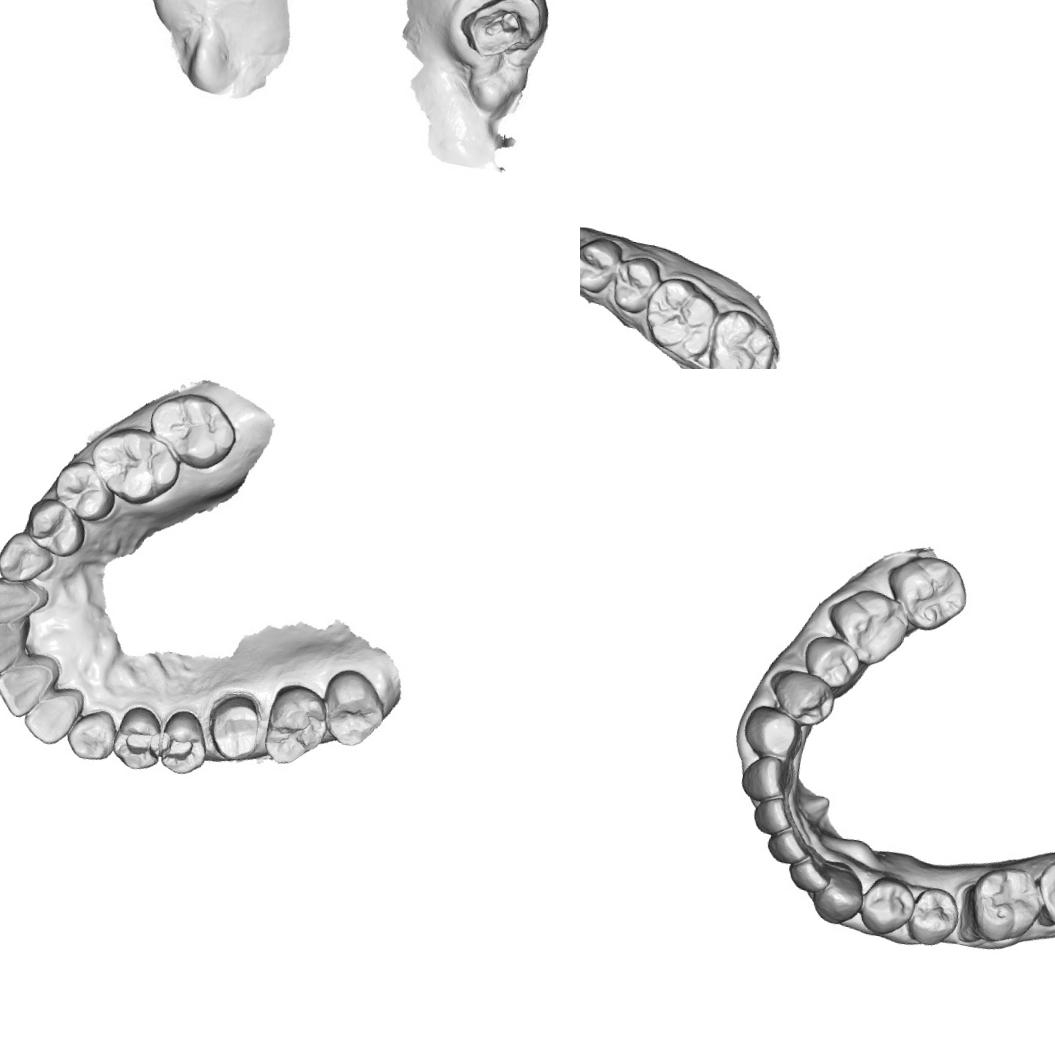canine: (806, 857, 870, 928), (739, 700, 808, 764), (60, 700, 121, 766), (0, 526, 59, 589)
crown: (197, 682, 273, 767)
incisor: (18, 679, 93, 751), (0, 646, 62, 723), (735, 749, 792, 806), (0, 571, 51, 634), (762, 822, 814, 868), (784, 849, 834, 896), (747, 792, 798, 838), (0, 613, 32, 680)
inlay: (155, 724, 202, 771), (117, 717, 162, 766)
molar: (82, 418, 186, 512), (140, 384, 244, 476), (878, 547, 974, 638), (956, 859, 1048, 953), (820, 581, 914, 671), (638, 272, 722, 365), (314, 664, 394, 754), (259, 679, 337, 771), (700, 304, 781, 369), (1029, 846, 1055, 932)
premolar: (47, 455, 122, 526), (762, 664, 838, 730), (20, 493, 90, 560), (854, 870, 920, 941), (902, 882, 964, 950), (798, 630, 863, 692), (608, 251, 662, 317), (580, 232, 624, 296)
